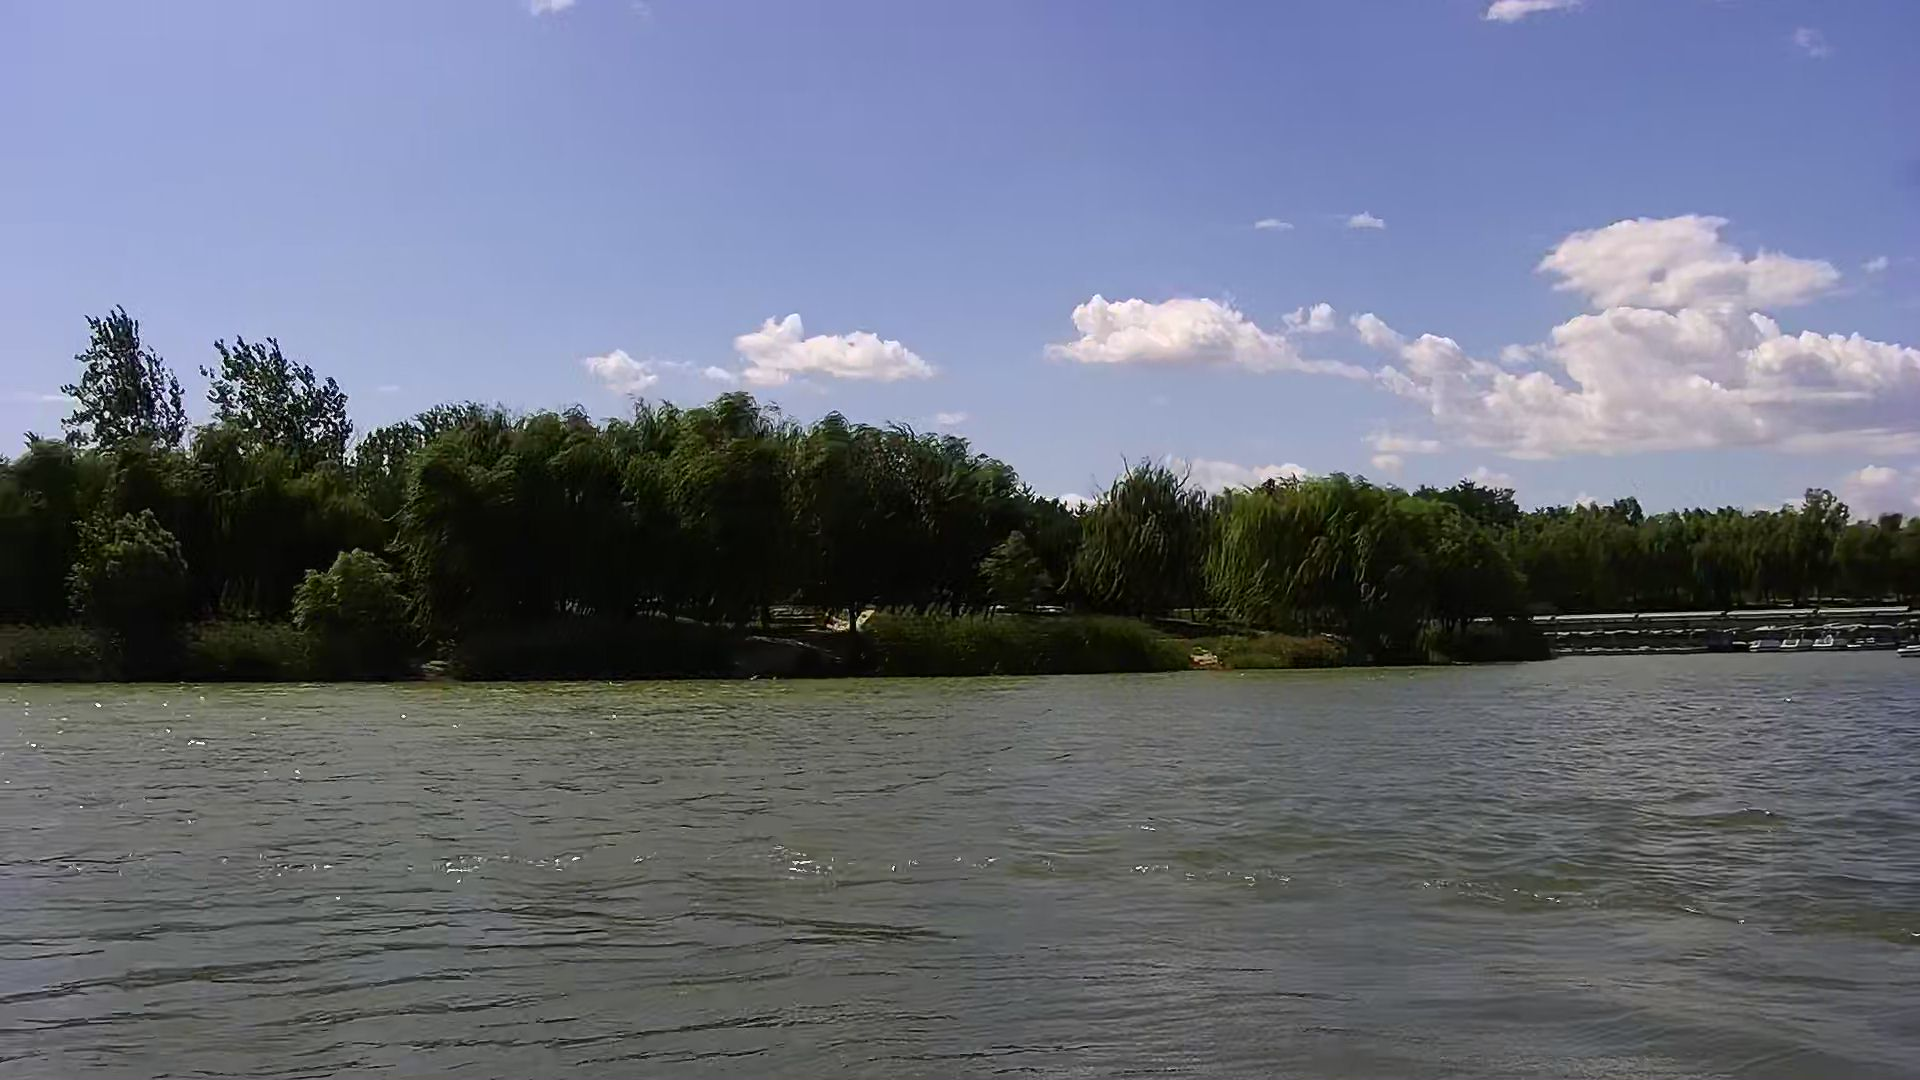boat: (1747, 622, 1782, 655), (1782, 622, 1811, 653), (1813, 626, 1846, 651), (1896, 642, 1909, 658)
harbor: (1555, 607, 1907, 651)
